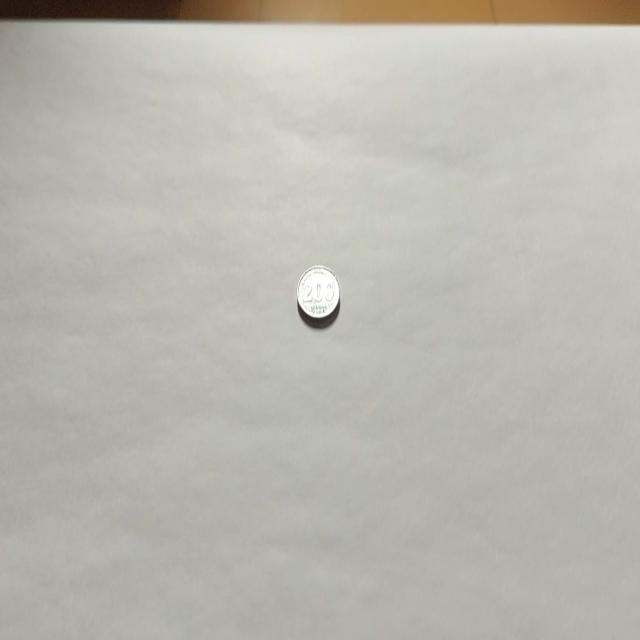dua ratus rupiah: (296, 263, 340, 328)
